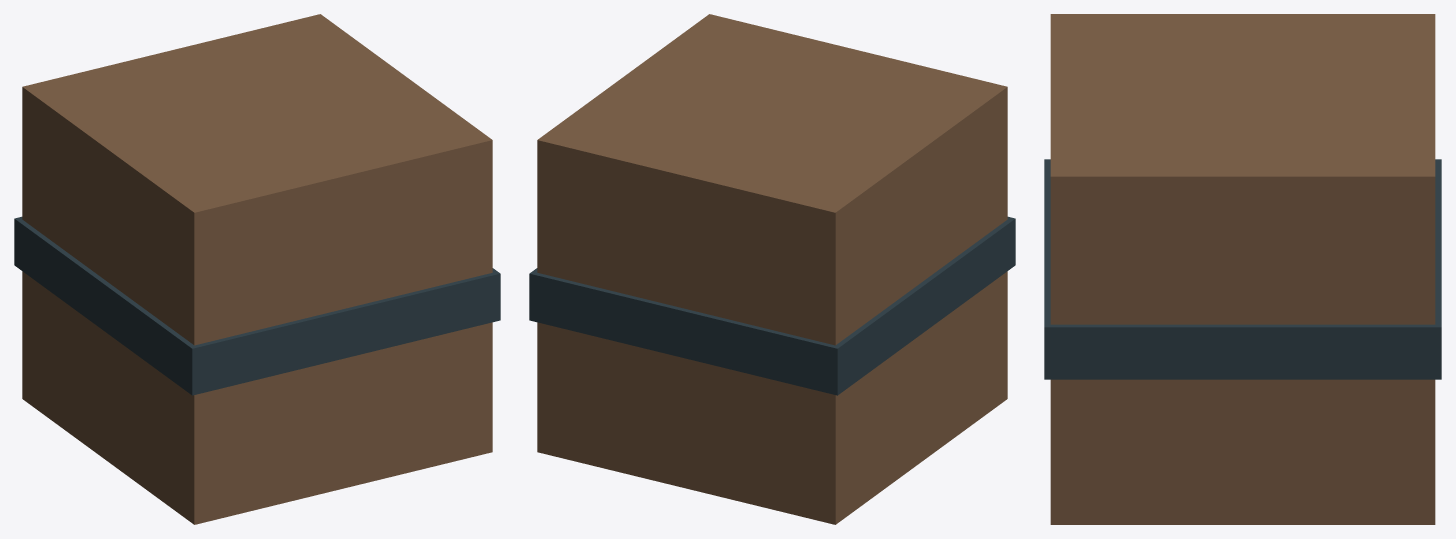
File: dock-crate.gltf
The picture shows the model from 3 angles, left to right: view 1: azimuth 30°, elevation 25°; view 2: azimuth 150°, elevation 25°; view 3: azimuth 270°, elevation 25°; orthographic projection. The views are drawn at different scales.
Bounding box in the file's own units: 1.24 × 1.2 × 1.24.
